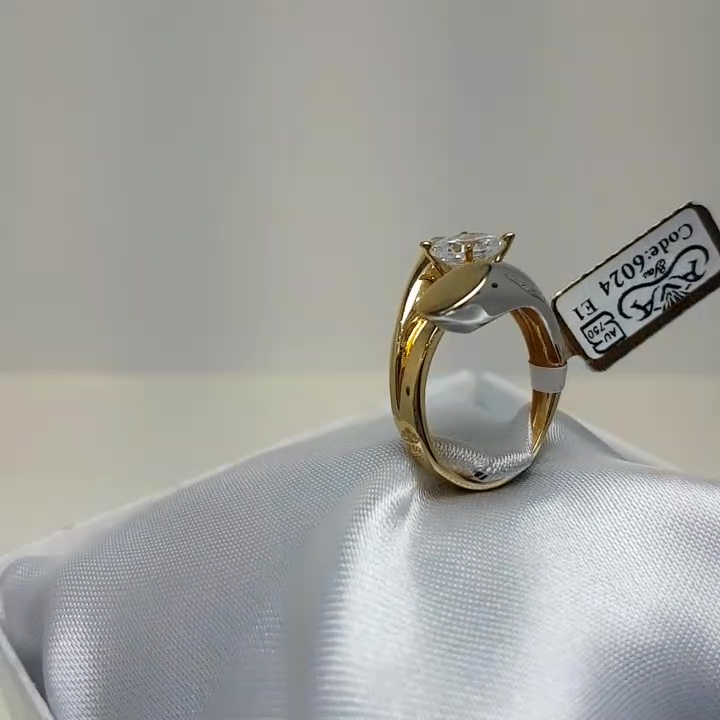Ring 7: (374, 223, 587, 534)
